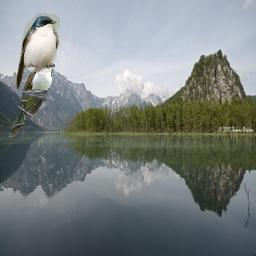Cuckoo: (8, 60, 55, 137)
Swallow: (16, 13, 60, 90)
